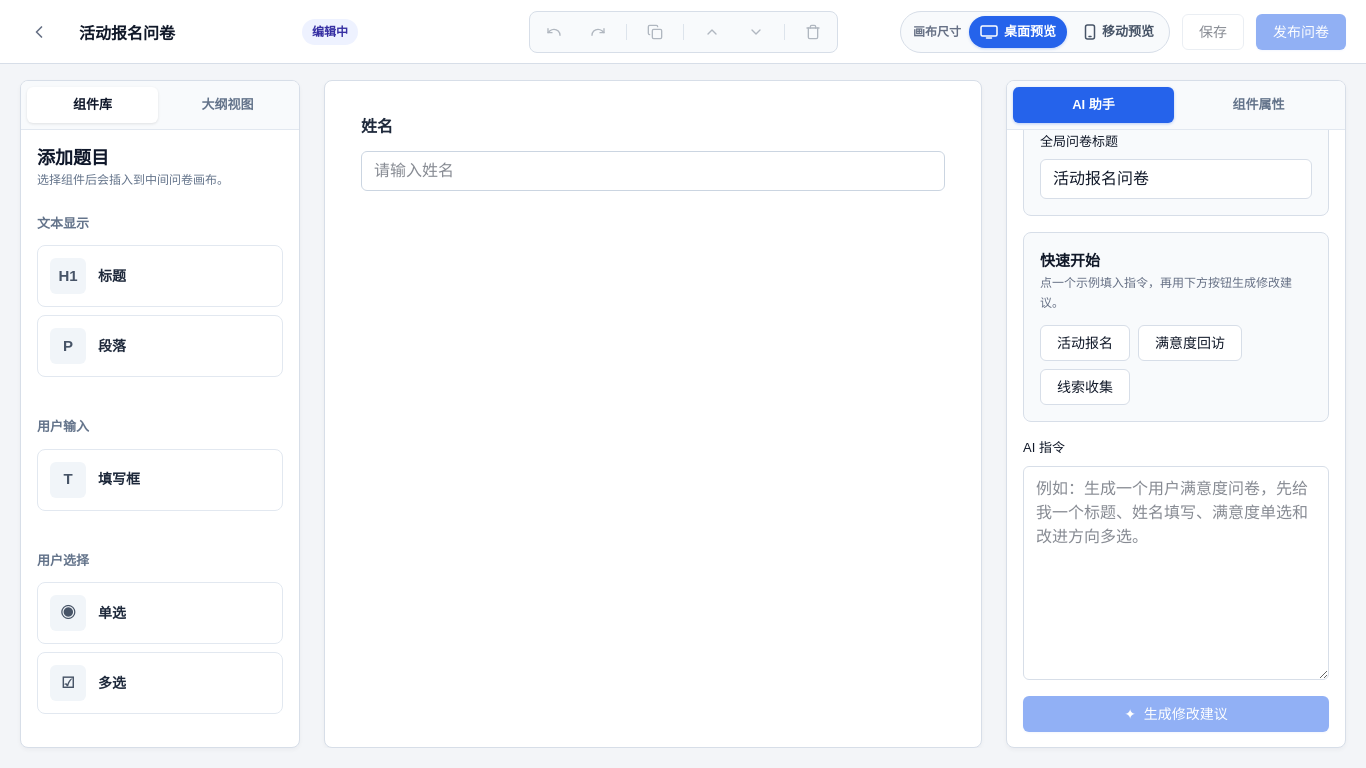
Test: EditorShell › shows builtin generator notices returned by the AI changes endpoint
The image size is (1366, 768).
(page scrolled)
Type "生成一个活动报名问卷" into the text box named "AI prompt".
click(1176, 572); type("生成一个活动报名问卷")  # box [1023,466,1329,680]
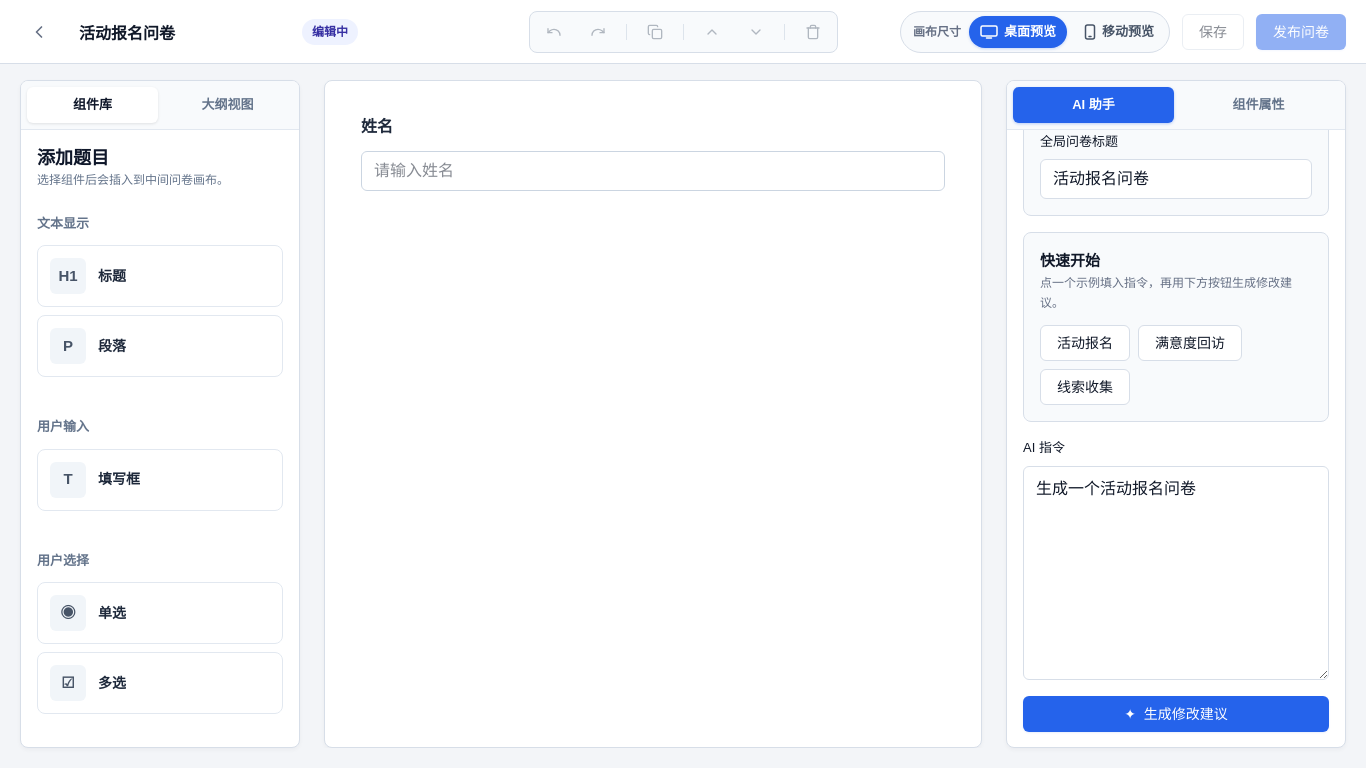
Click the button "✦ 生成修改建议".
click(1176, 714)  # box [1023,696,1329,732]
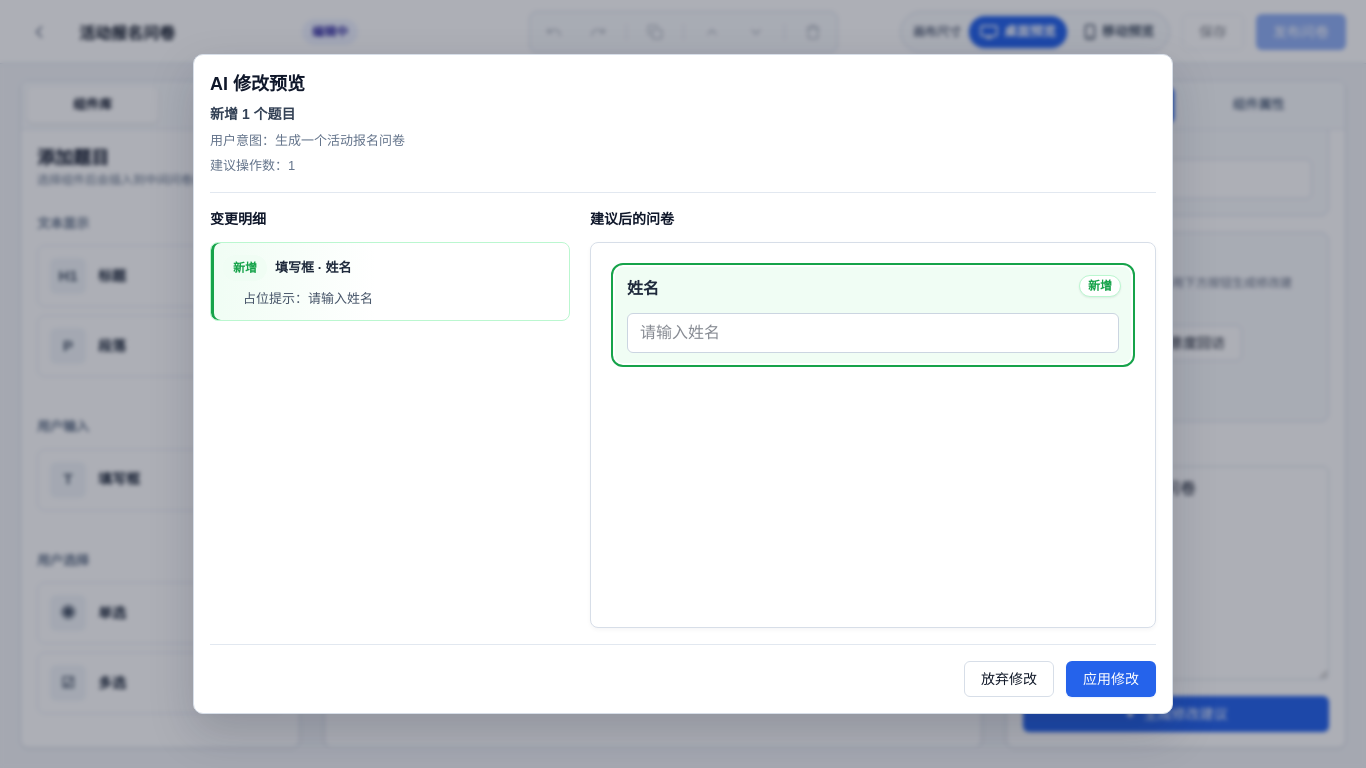
Check: the text "新增 1 个题目" is shown, box [210,106,296,122]
